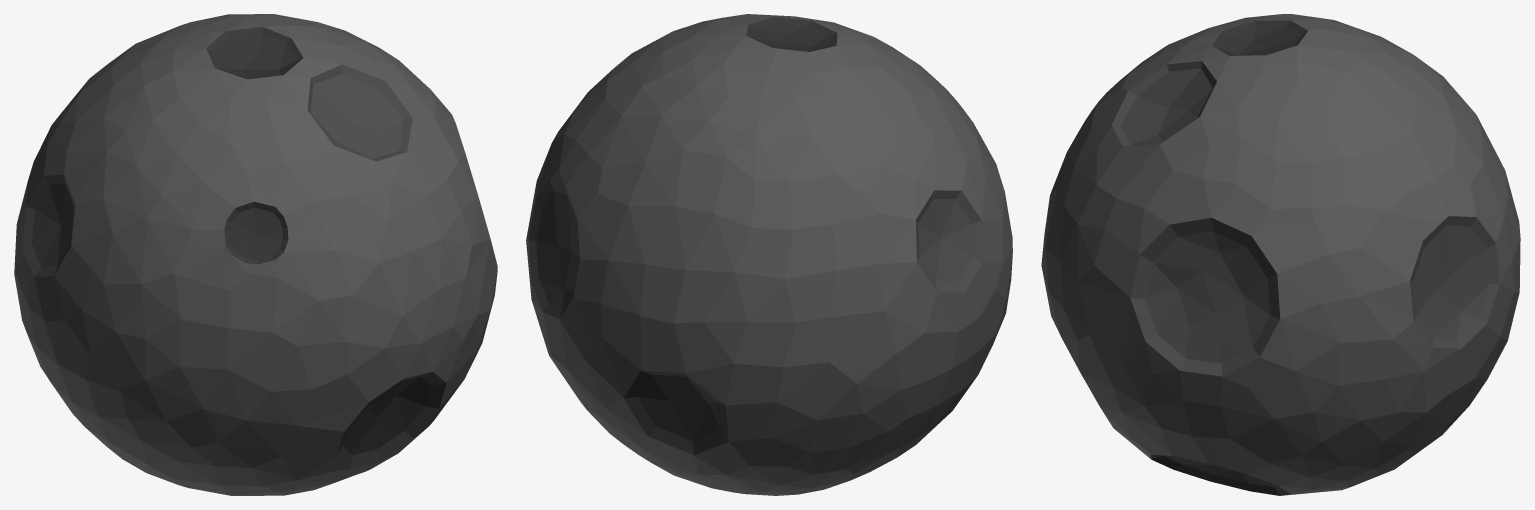
File: Crater_Planet_02.fbx
The picture shows the model from 3 angles, left to right: view 1: azimuth 30°, elevation 25°; view 2: azimuth 150°, elevation 25°; view 3: azimuth 270°, elevation 25°; orthographic projection.
Visible parts, largest first — view 1: Crater_Planet_02; view 2: Crater_Planet_02; view 3: Crater_Planet_02.
Boxes of the visible parts, x1,y1,x2,y2 form: Crater_Planet_02: [14, 14, 497, 495]; Crater_Planet_02: [526, 14, 1012, 495]; Crater_Planet_02: [1041, 14, 1520, 495].
Bounding box in the file's own units: 18270 × 18160 × 18084.
Materials: 1 (1 with a texture image).
